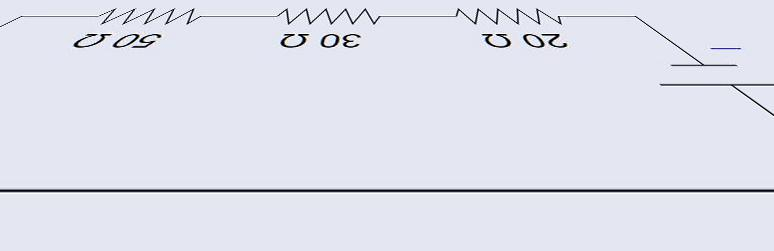resistor: (431, 1, 565, 35), (100, 4, 225, 30), (272, 0, 391, 26)
